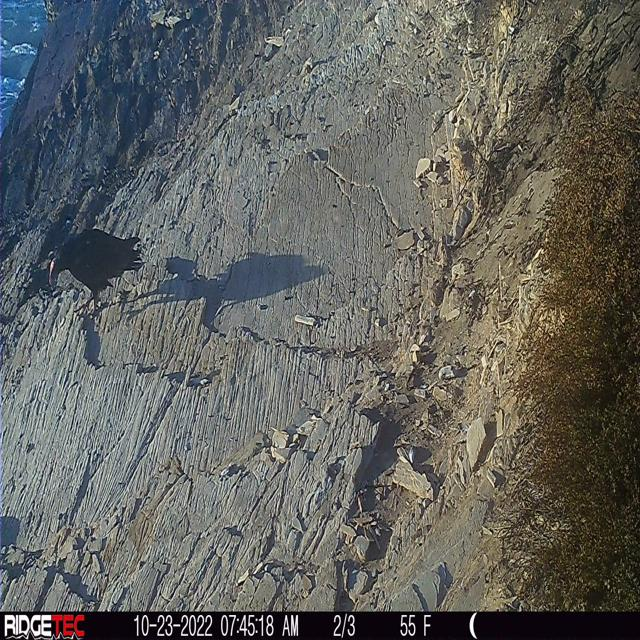bird: (39, 219, 150, 333)
